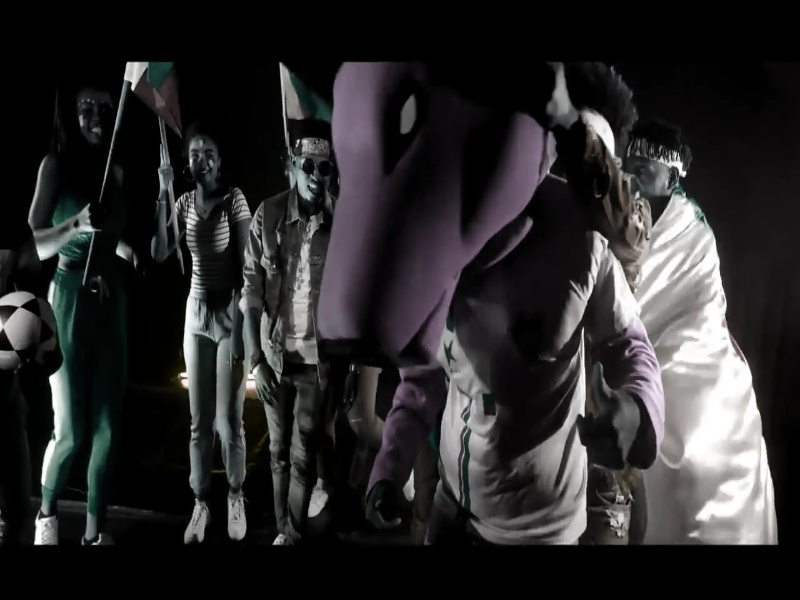TsisyArotava: (286, 122, 340, 212), (70, 83, 121, 150), (182, 121, 225, 199)
